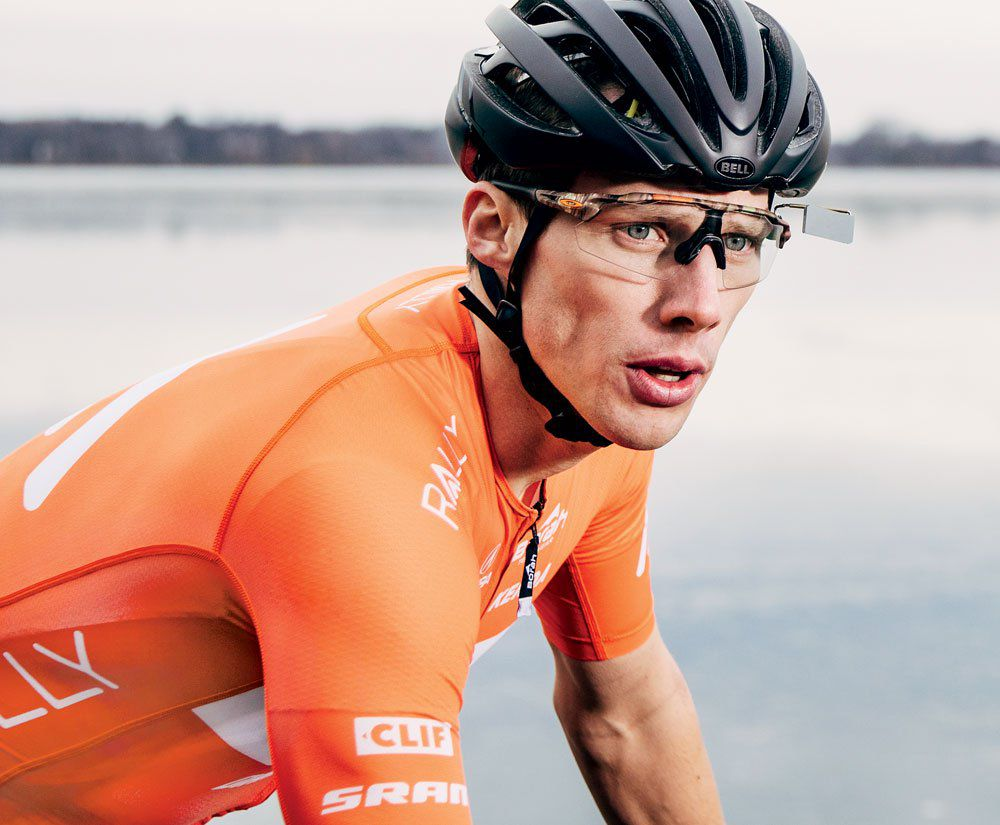with_helmet: (449, 7, 855, 227)
